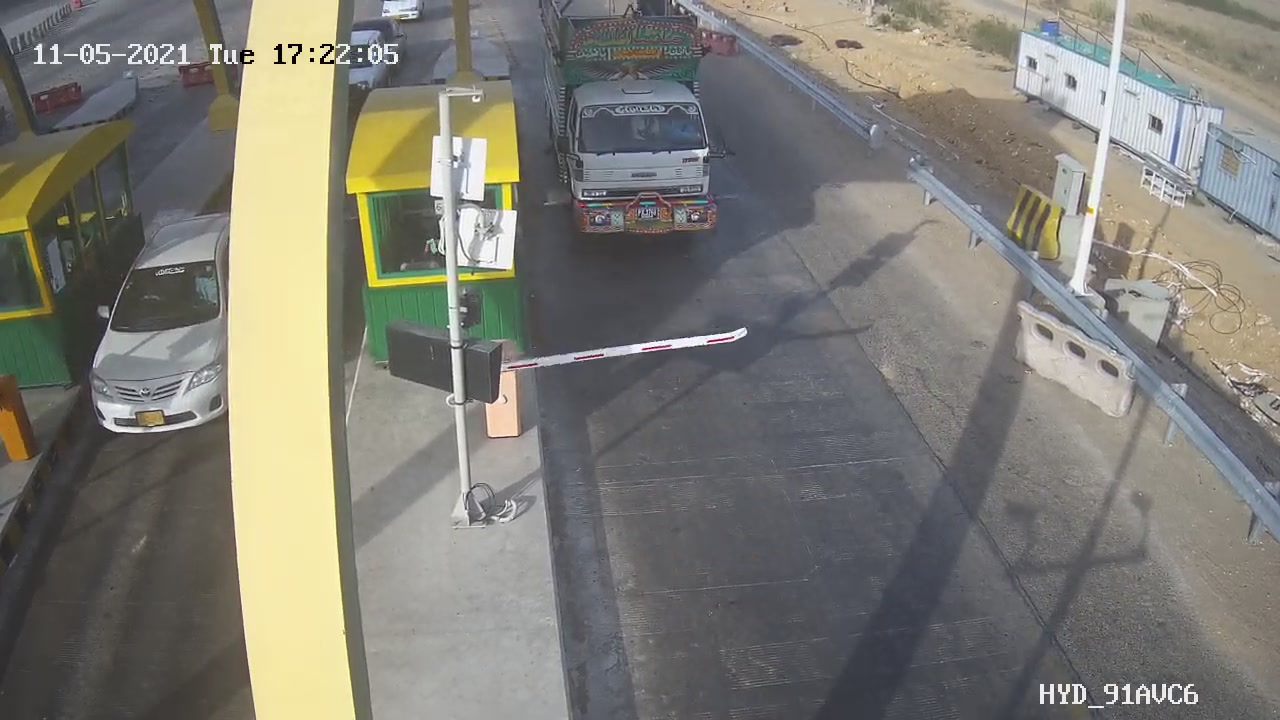F5: (529, 1, 743, 259)
